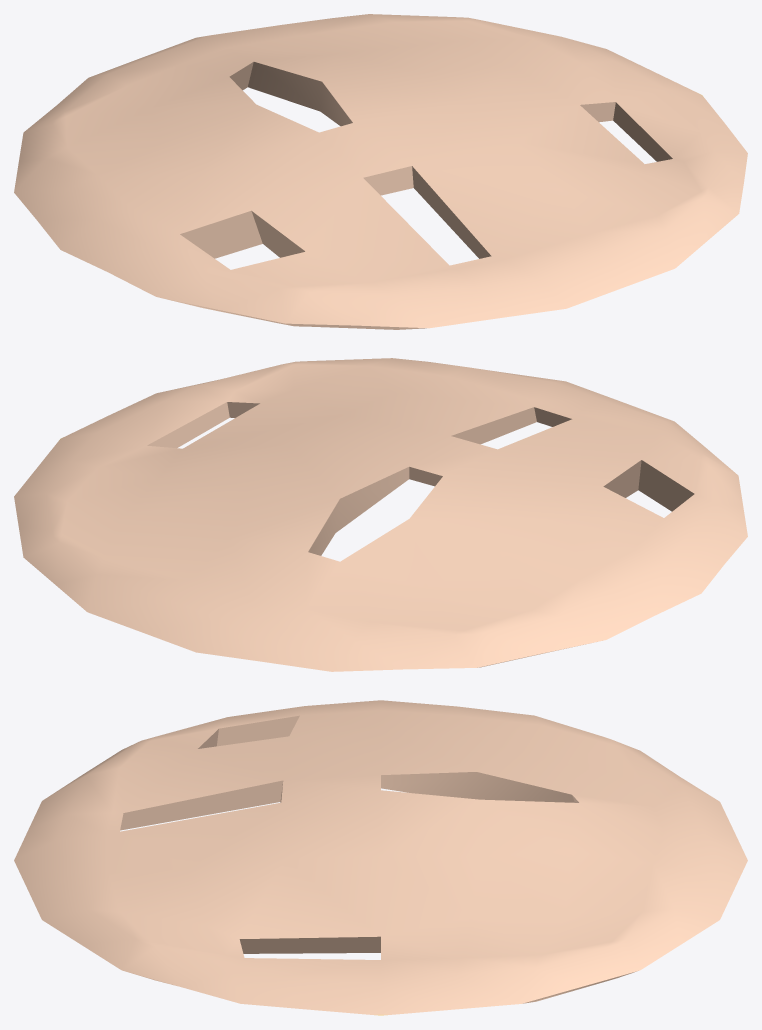
File: Shell 2_001.glb
The picture shows the model from 3 angles, top to bottom: view 1: azimuth 30°, elevation 25°; view 2: azimuth 150°, elevation 25°; view 3: azimuth 270°, elevation 25°; orthographic projection.
Parts seen in each view (by area): view 1: Shell 2_001; view 2: Shell 2_001; view 3: Shell 2_001.
Boxes of the visible parts, left/top/right/bottom form: Shell 2_001: left=14, top=14, right=747, bottom=329; Shell 2_001: left=14, top=358, right=747, bottom=671; Shell 2_001: left=14, top=700, right=747, bottom=1015.
Size of the model in its own units: 0.1 by 0.011 by 0.1.
Materials: 1 (1 with a texture image).
